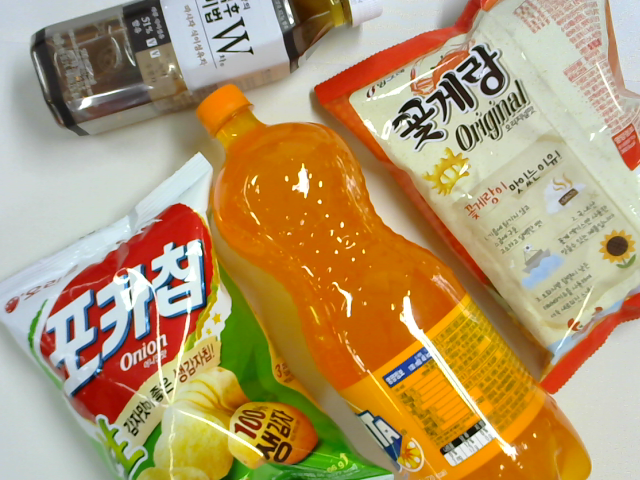Crabrang: (312, 1, 640, 394)
Hwanta_Orange_1.5L: (197, 82, 592, 480)
Pocachip_Onion: (1, 151, 396, 480)
Post-meal_recipe_W_tea_500ml: (30, 1, 386, 138)
